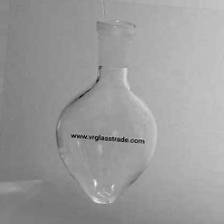Pear shaped flask: (55, 12, 155, 207)
